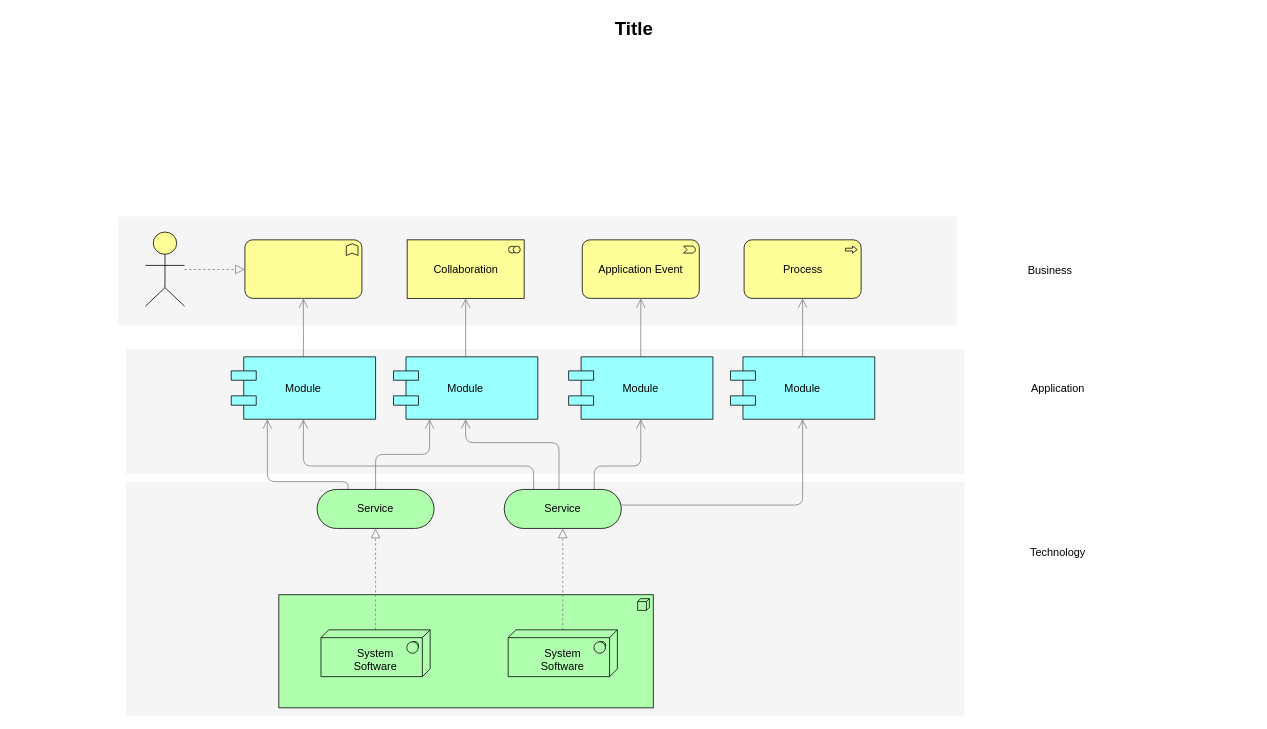
Image size: 1267x729. Some labels were removed from this diagram. Each missing label, with the box of its shape:
Function: (244, 239, 362, 298)
Node: (278, 594, 653, 708)
